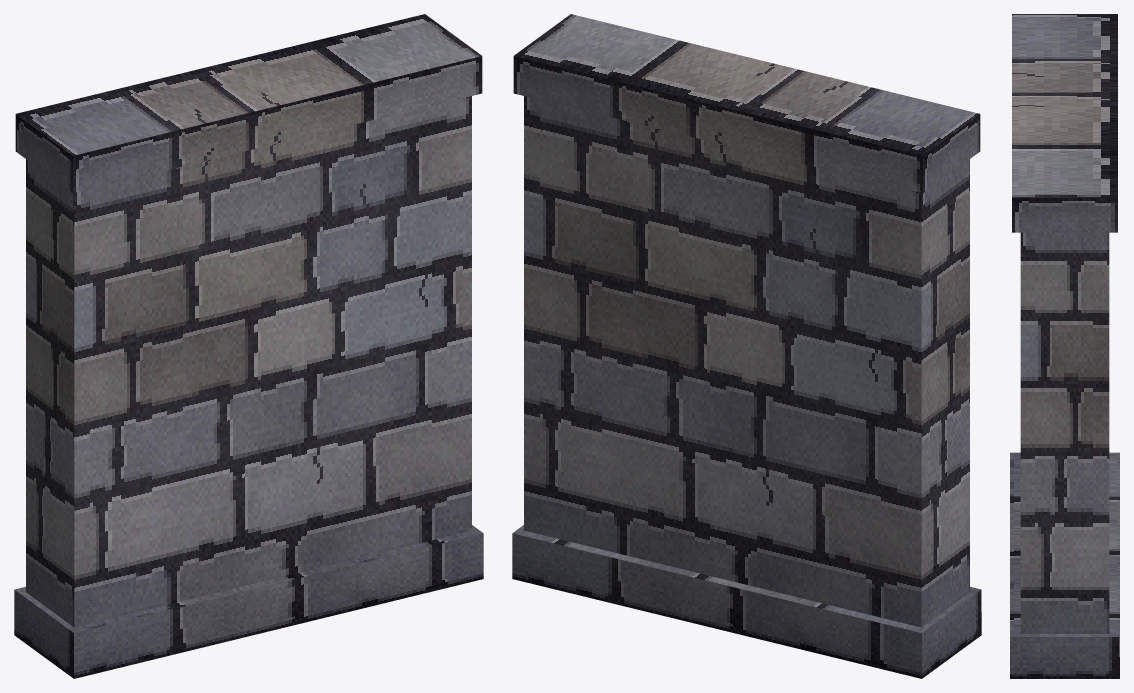
Rendered from parede_de_pedra.glb.
The picture shows the model from 3 angles, left to right: view 1: azimuth 30°, elevation 25°; view 2: azimuth 150°, elevation 25°; view 3: azimuth 270°, elevation 25°; orthographic projection. The views are drawn at different scales.
Parts seen in each view (by area): view 1: parede_de_pedra; view 2: parede_de_pedra; view 3: parede_de_pedra.
Boxes of the visible parts, x1=… form: parede_de_pedra: x1=14, y1=14, x2=483, y2=678; parede_de_pedra: x1=512, y1=14, x2=981, y2=678; parede_de_pedra: x1=1010, y1=14, x2=1119, y2=678.
Bounding box in the file's own units: 2.06 × 2.51 × 0.52.
1 material, 1 textured.
